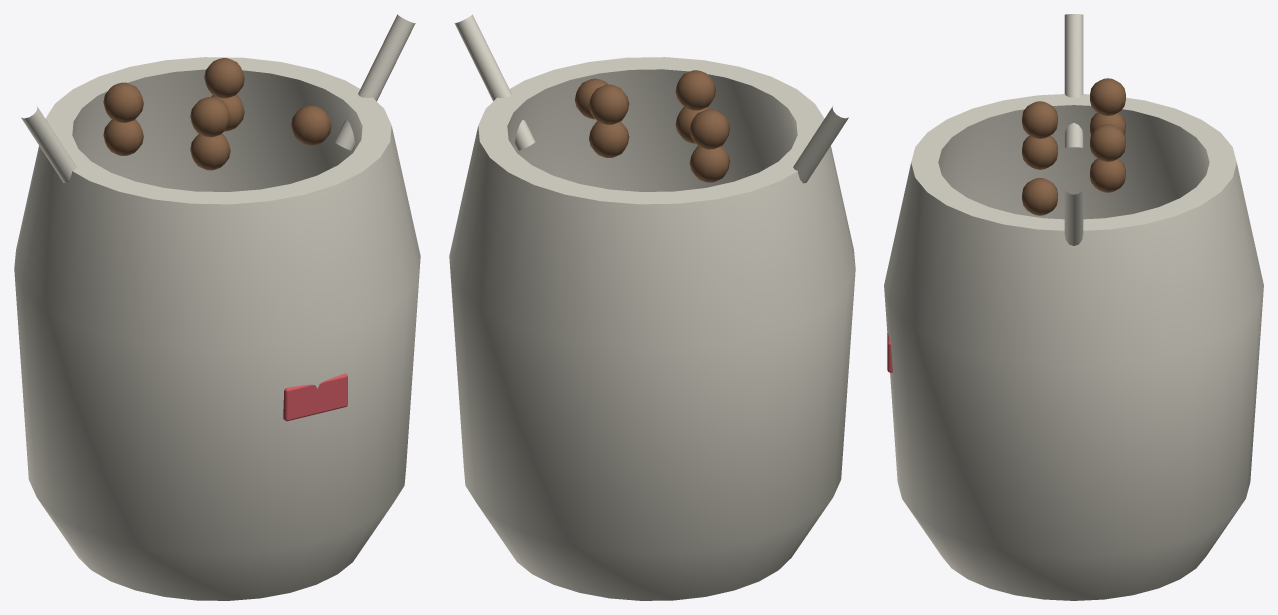
The model's file is chocolate-making-and-confectionery-cocoa-bean-sack-f3759365__39138.glb.
The picture shows the model from 3 angles, left to right: view 1: azimuth 30°, elevation 25°; view 2: azimuth 150°, elevation 25°; view 3: azimuth 270°, elevation 25°; orthographic projection. The views are drawn at different scales.
Parts seen in each view (by area): view 1: cocoa-bean-sack; view 2: cocoa-bean-sack; view 3: cocoa-bean-sack.
Part boxes in pixels (x1,y1,x2,y2): cocoa-bean-sack: (14,14,420,600); cocoa-bean-sack: (449,14,855,600); cocoa-bean-sack: (884,14,1263,600).
Bounding box in the file's own units: 0.6241 × 0.7271 × 0.5601.
